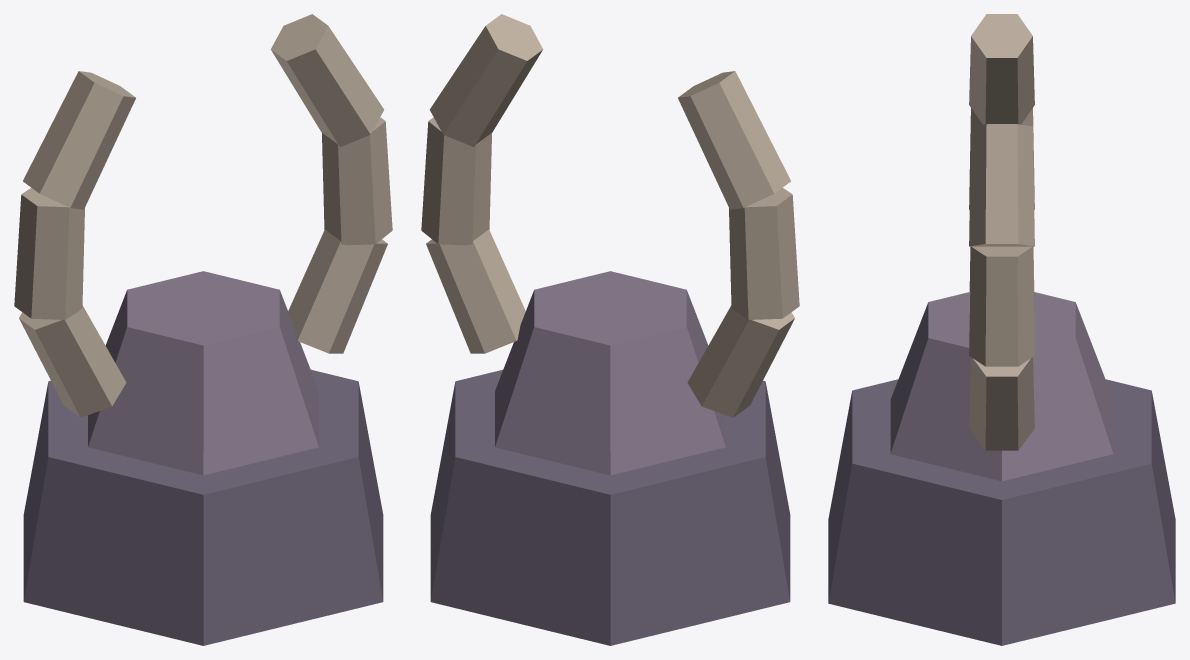
File: map-exclusive-v3__dragon_06.glb
3 renders of one model, left to right at view 1: azimuth 30°, elevation 25°; view 2: azimuth 150°, elevation 25°; view 3: azimuth 270°, elevation 25°, orthographic. The views are drawn at different scales.
Visible parts, largest first — view 1: dragon_06; view 2: dragon_06; view 3: dragon_06.
Boxes of the visible parts, <box> form: dragon_06: <box>14,14,392,645</box>; dragon_06: <box>421,14,799,645</box>; dragon_06: <box>828,14,1175,645</box>.
Bounding box in the file's own units: 1.47 × 1.98 × 1.26.
